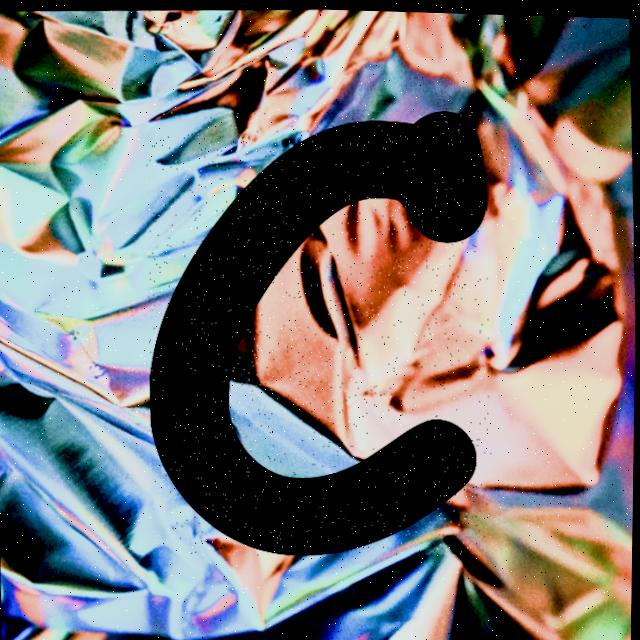C: (151, 109, 487, 553)
